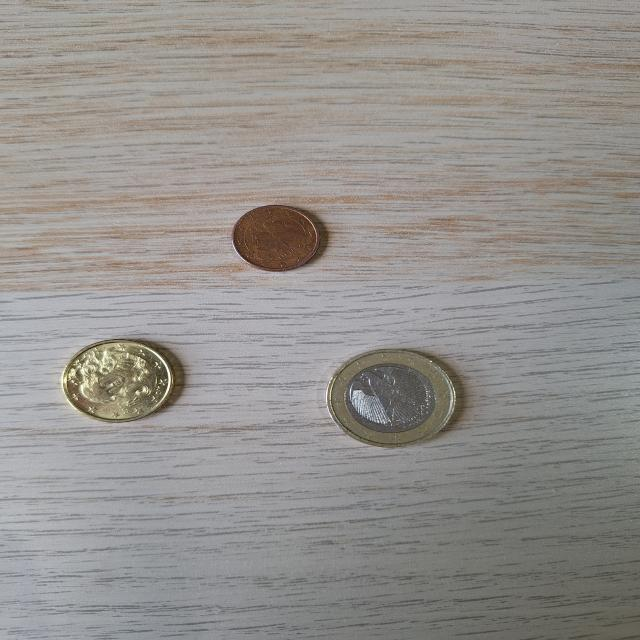10c: (53, 331, 186, 428)
1e: (310, 340, 484, 457)
5c: (222, 200, 332, 277)
